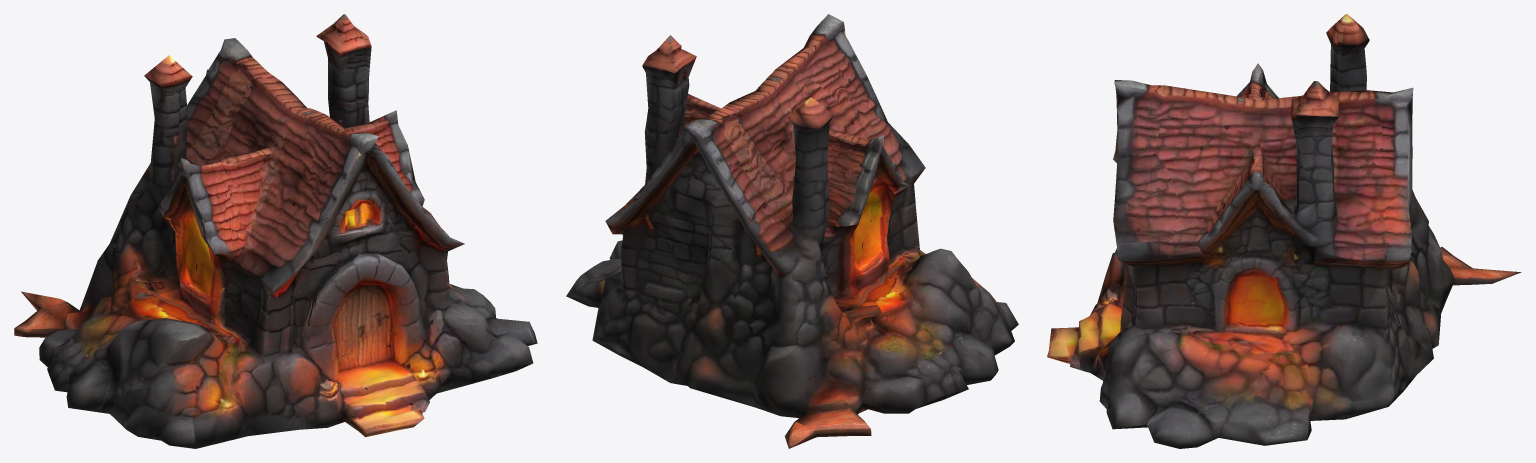
The model's file is lava_house.glb.
3 renders of one model, left to right at view 1: azimuth 30°, elevation 25°; view 2: azimuth 150°, elevation 25°; view 3: azimuth 270°, elevation 25°, orthographic. The views are drawn at different scales.
Size of the model in its own units: 1.98 by 1.33 by 1.85.
Materials: 1 (1 with a texture image).
